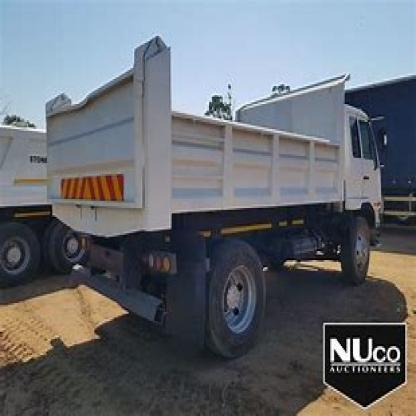dump_truck: (40, 27, 387, 355)
